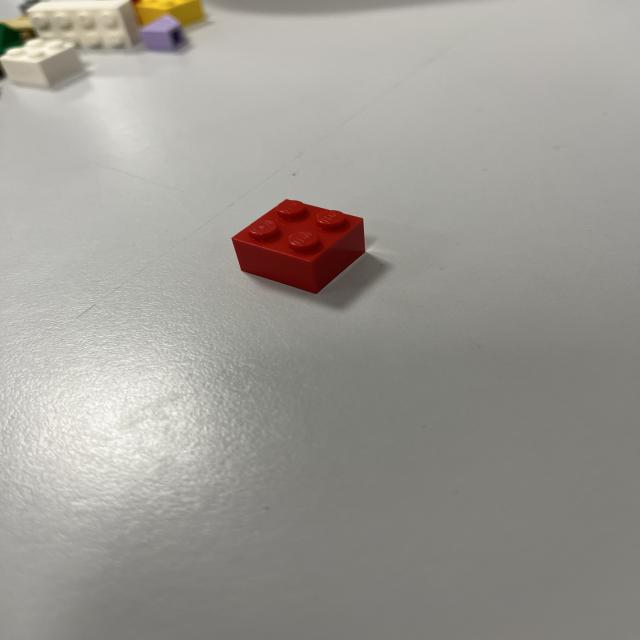C2x2x1: (233, 197, 365, 292)
